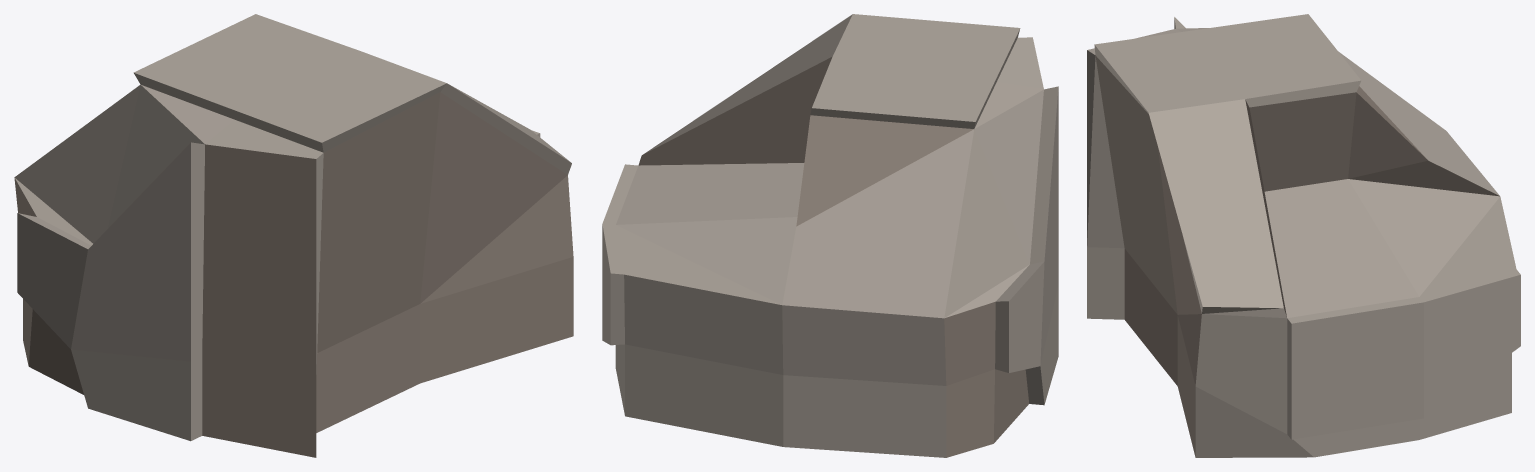
The model's file is stone2.fbx.
3 renders of one model, left to right at view 1: azimuth 30°, elevation 25°; view 2: azimuth 150°, elevation 25°; view 3: azimuth 270°, elevation 25°, orthographic. The views are drawn at different scales.
Visible parts, largest first — view 1: pCube21; view 2: pCube21; view 3: pCube21.
Part boxes in pixels (x1=…): pCube21: x1=14, y1=14, x2=573, y2=457; pCube21: x1=602, y1=14, x2=1058, y2=457; pCube21: x1=1087, y1=14, x2=1520, y2=457.
Size of the model in its own units: 18.41 by 11.5 by 16.24.
